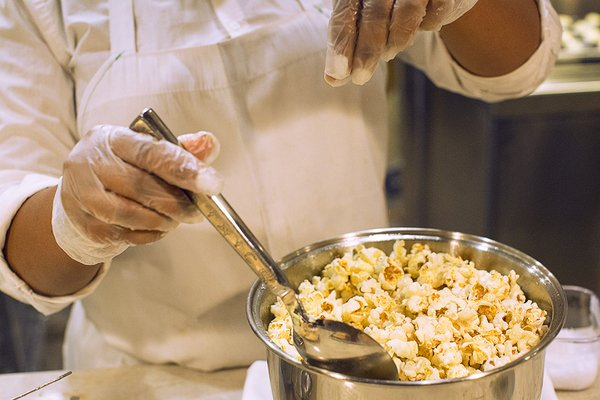sushi: (248, 226, 568, 396)
